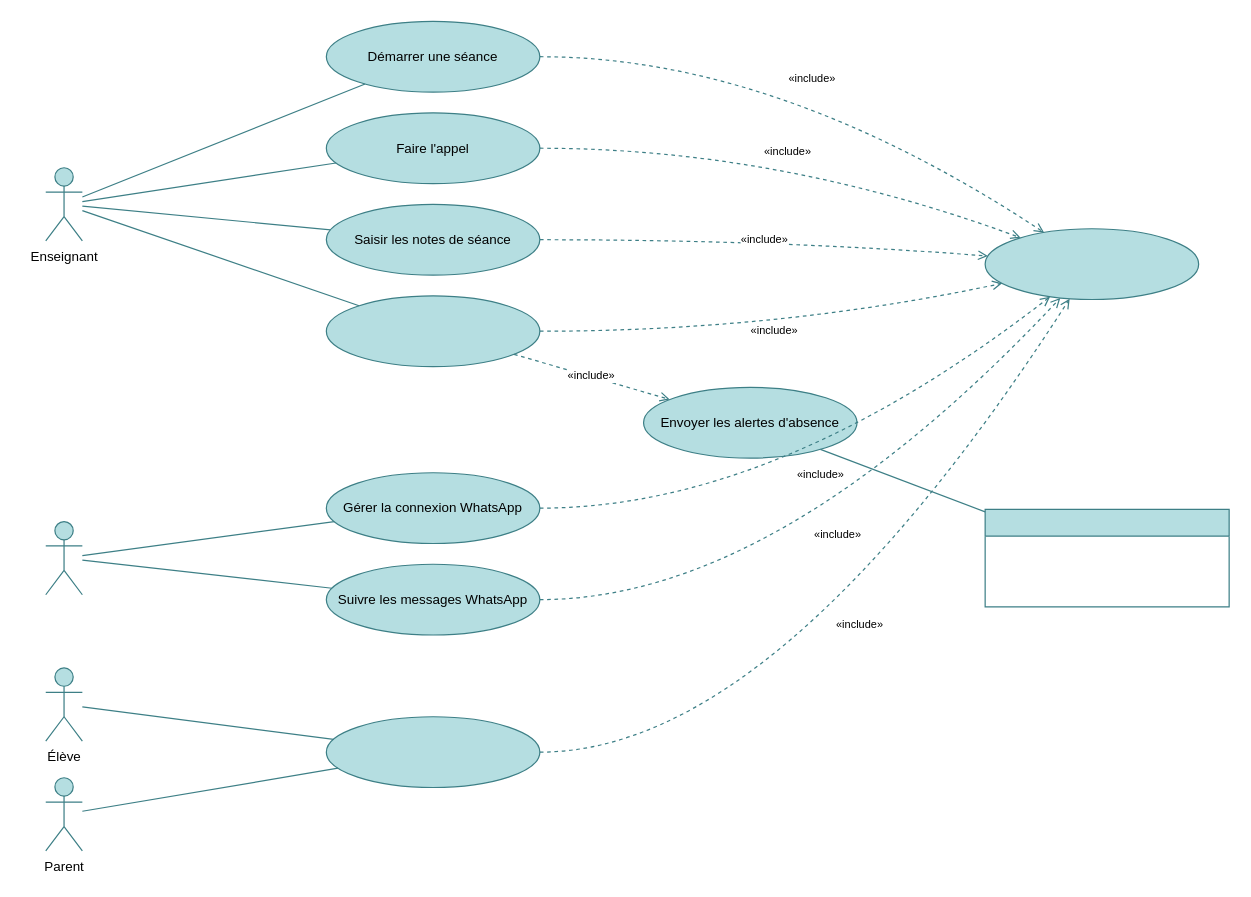
This 1251x897 diagram has some shape labels left out. The shapes that lost their labels are listed below. From the top down, each one's centre as x and y in pixels, then its label:
(x=1091, y=264): S'authentifier
(x=432, y=331): Terminer la séance
(x=63, y=557): Administrateur
(x=1106, y=557): Agent de notification
(x=432, y=752): Consulter le planning et les présences
